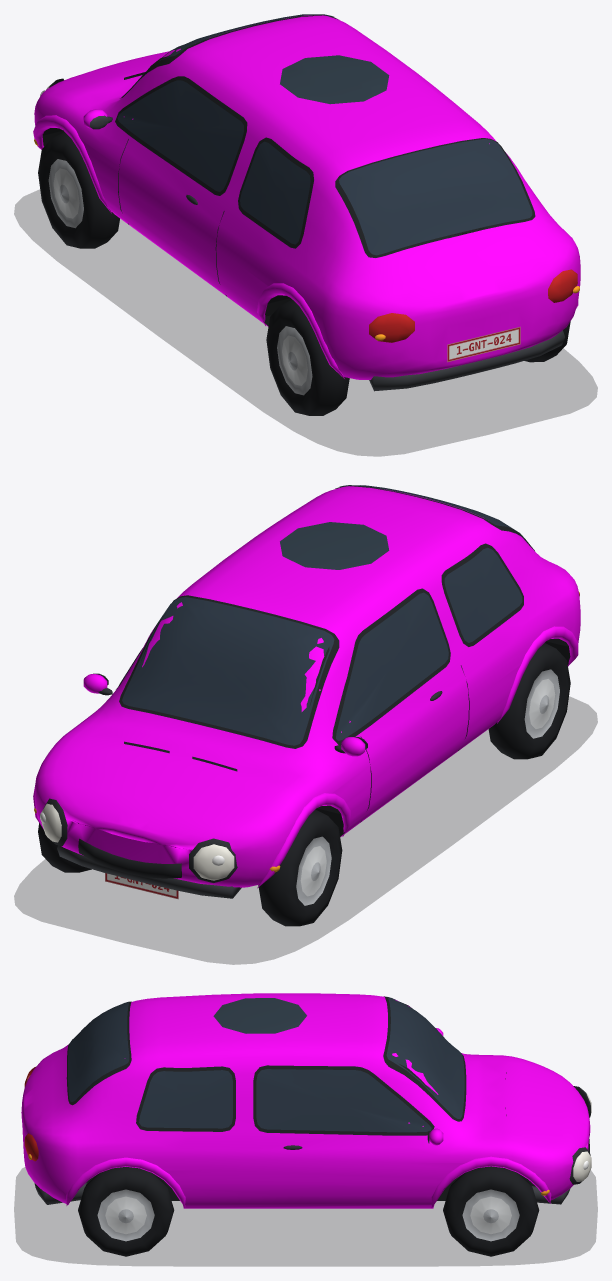
File: car-hatch.obj
The picture shows the model from 3 angles, top to bottom: view 1: azimuth 30°, elevation 25°; view 2: azimuth 150°, elevation 25°; view 3: azimuth 270°, elevation 25°; orthographic projection. The views are drawn at different scales.
Parts seen in each view (by area): view 1: body.rl, shadowpad.nocast, body.fl, body.rr, glass.backlight.nocast, glass.win_front.-1.nocast, wheel.RL, wheel.FL, glass.win_rear.-1.nocast, opt.sunroof.nocast, body.fr, trim.bumper_rear (+8 smaller); view 2: body.fl, shadowpad.nocast, body.rl, glass.windshield.nocast, body.fr, glass.win_front.-1.nocast, wheel.FL, wheel.RL, body.rr, glass.win_rear.-1.nocast, opt.sunroof.nocast, glass.frame.windshield.nocast (+9 smaller); view 3: body.rr, shadowpad.nocast, body.fr, glass.win_front.1.nocast, wheel.FR, wheel.RR, body.fl, glass.win_rear.1.nocast, glass.windshield.nocast, body.rl, glass.backlight.nocast, opt.sunroof.nocast (+7 smaller).
Part boxes in pixels (x1=…): body.rl: x1=95, y1=56, x2=483, y2=379; shadowpad.nocast: x1=14, y1=189, x2=597, y2=456; body.fl: x1=34, y1=26, x2=304, y2=326; body.rr: x1=315, y1=41, x2=580, y2=360; glass.backlight.nocast: x1=339, y1=139, x2=532, y2=255; glass.win_front.-1.nocast: x1=117, y1=80, x2=243, y2=191; wheel.RL: x1=266, y1=299, x2=349, y2=415; wheel.FL: x1=38, y1=132, x2=119, y2=248; glass.win_rear.-1.nocast: x1=240, y1=141, x2=310, y2=244; opt.sunroof.nocast: x1=280, y1=55, x2=389, y2=104; body.fr: x1=139, y1=15, x2=386, y2=59; trim.bumper_rear: x1=369, y1=330, x2=564, y2=391; body.fl: x1=128, y1=567, x2=511, y2=887; shadowpad.nocast: x1=14, y1=696, x2=597, y2=964; body.rl: x1=315, y1=497, x2=580, y2=807; glass.windshield.nocast: x1=122, y1=597, x2=334, y2=745; body.fr: x1=34, y1=548, x2=305, y2=859; glass.win_front.-1.nocast: x1=336, y1=592, x2=448, y2=740; wheel.FL: x1=258, y1=809, x2=342, y2=926; wheel.RL: x1=488, y1=643, x2=570, y2=759; body.rr: x1=225, y1=486, x2=423, y2=570; glass.win_rear.-1.nocast: x1=444, y1=547, x2=522, y2=642; opt.sunroof.nocast: x1=280, y1=522, x2=389, y2=569; glass.frame.windshield.nocast: x1=119, y1=595, x2=339, y2=748; body.rr: x1=21, y1=1017, x2=440, y2=1206; shadowpad.nocast: x1=14, y1=1167, x2=597, y2=1266; body.fr: x1=178, y1=1016, x2=590, y2=1208; glass.win_front.1.nocast: x1=256, y1=1069, x2=431, y2=1132; wheel.FR: x1=443, y1=1166, x2=539, y2=1256; wheel.RR: x1=78, y1=1167, x2=174, y2=1256; body.fl: x1=289, y1=993, x2=590, y2=1126; glass.win_rear.1.nocast: x1=139, y1=1070, x2=232, y2=1128; glass.windshield.nocast: x1=386, y1=997, x2=464, y2=1118; body.rl: x1=21, y1=993, x2=322, y2=1107; glass.backlight.nocast: x1=68, y1=1001, x2=129, y2=1101; opt.sunroof.nocast: x1=213, y1=998, x2=306, y2=1033.
Bounding box in the file's own units: 2.08 × 1.66 × 4.48.
16 materials, 1 textured.
